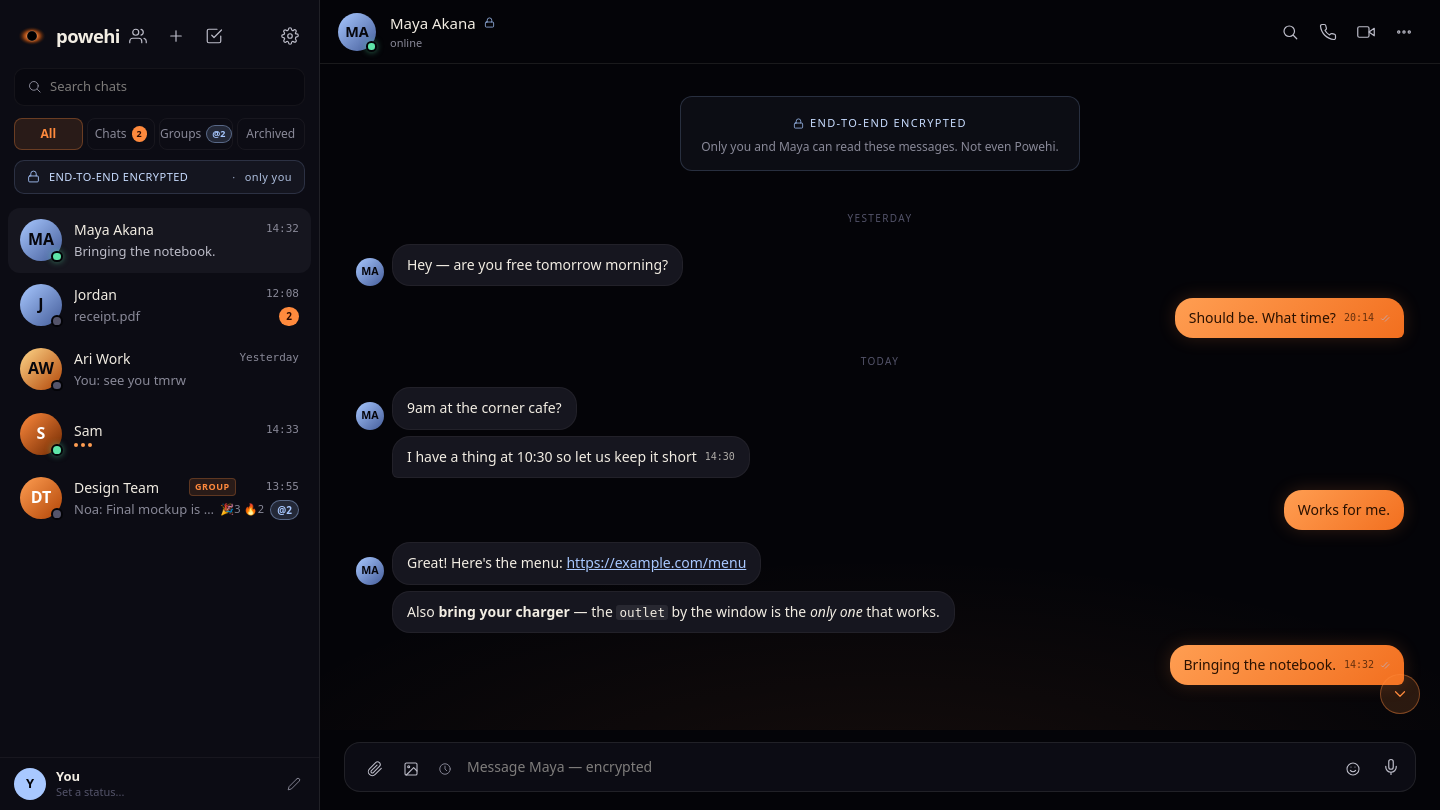
Test: ChatLayout — jump-to-bottom FAB › clicking the FAB hides it (restores at-bottom state)
Click the button with test id "jump-to-bottom-btn". click: x=1400, y=694
box: [1380,674,1420,714]
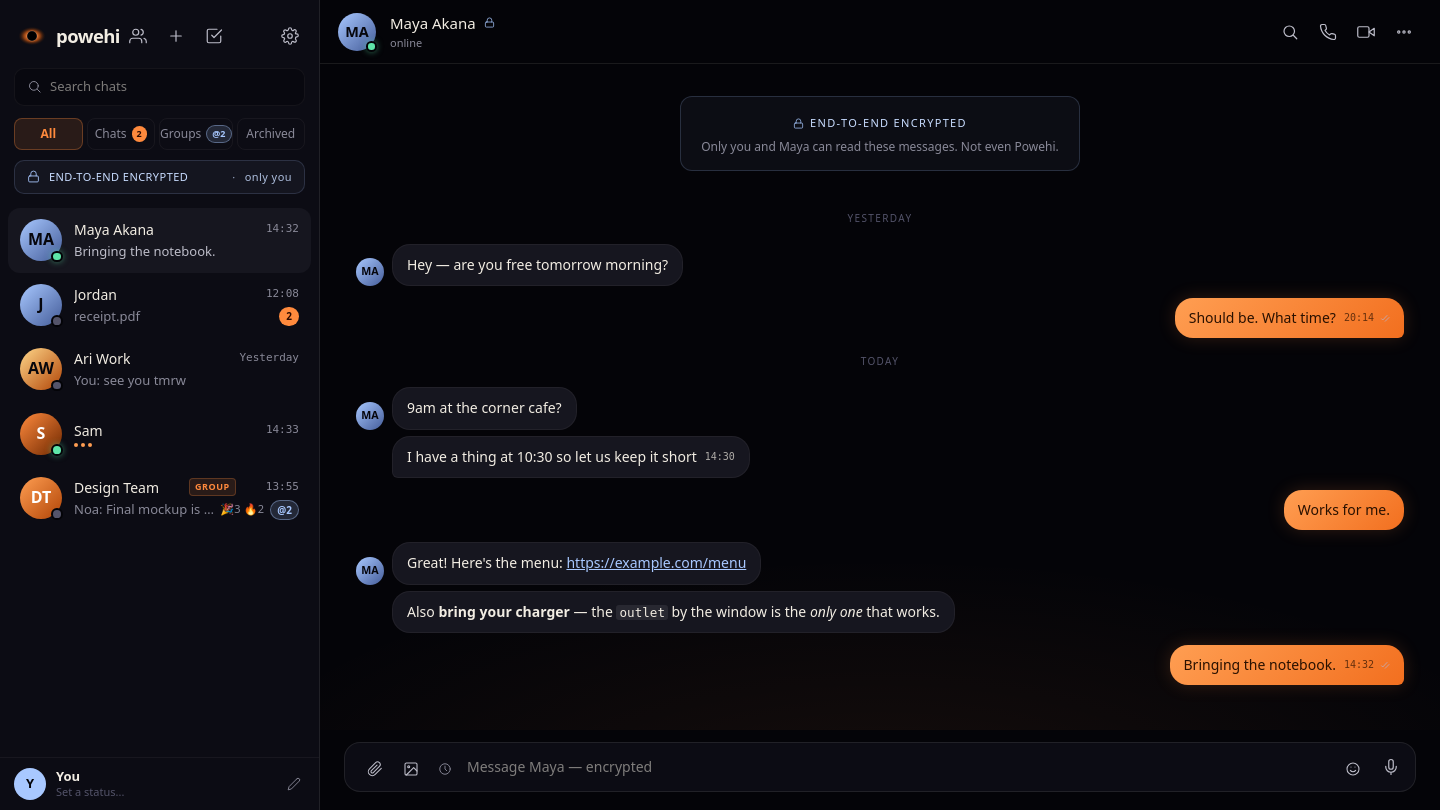
Check: the button with test id "jump-to-bottom-btn" is gone
